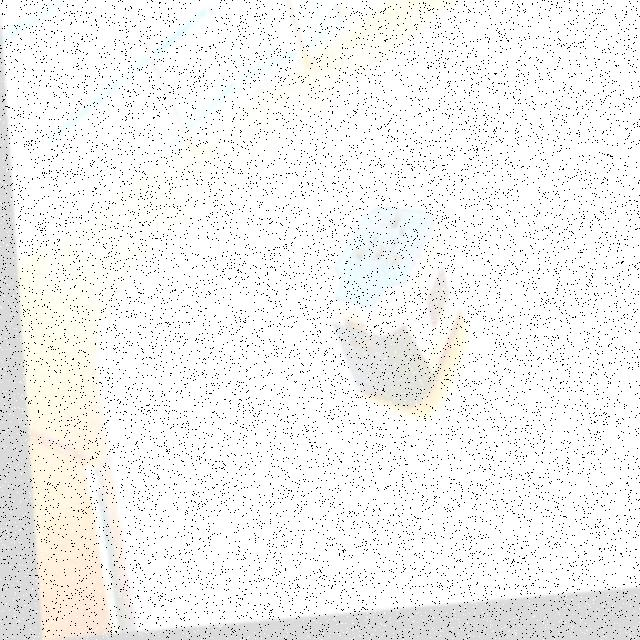adapter: (312, 203, 461, 421)
